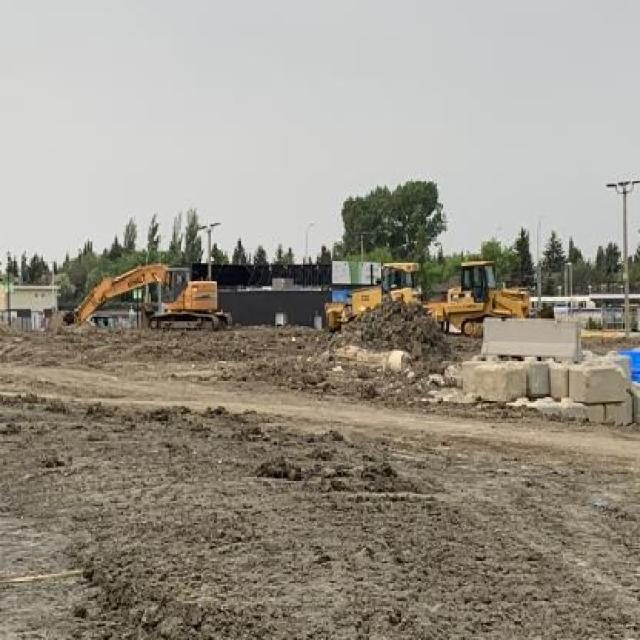excavator: (67, 260, 235, 337)
